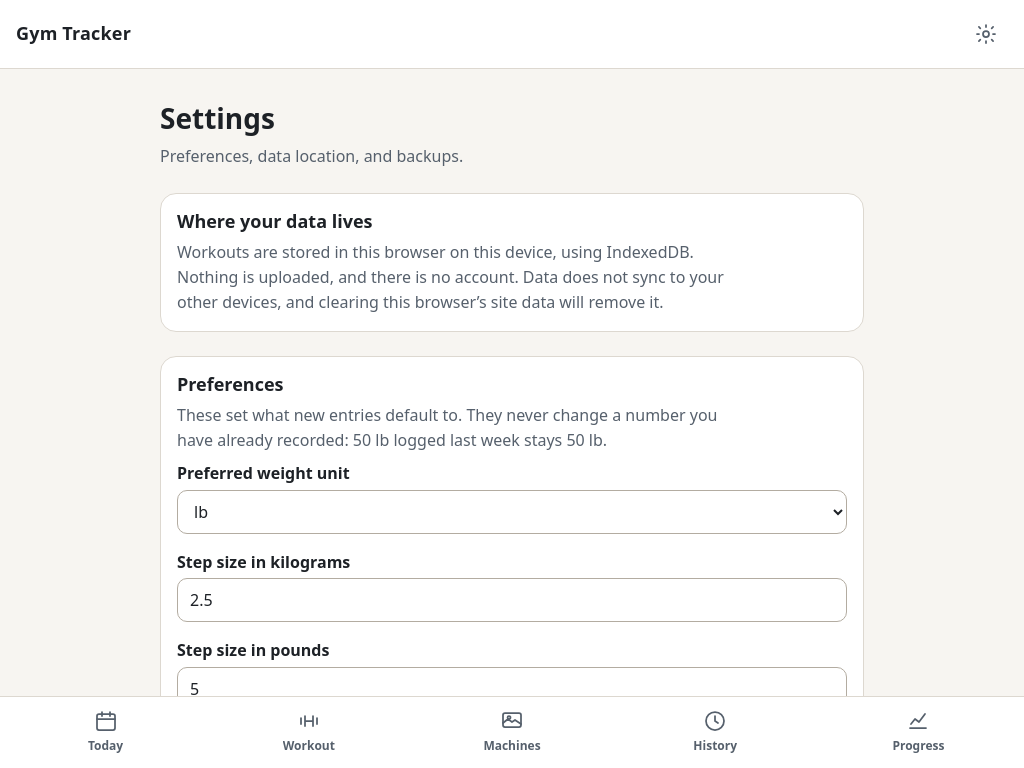
a preference never rewrites a recorded number › leaves an existing 50 lb entry as 50 lb after switching to kilograms
This screenshot has width=1024, height=768.
Select "kg" in the dropdown labelled "Preferred weight unit" at (512, 512), box [177,490,847,534]
(page scrolled)
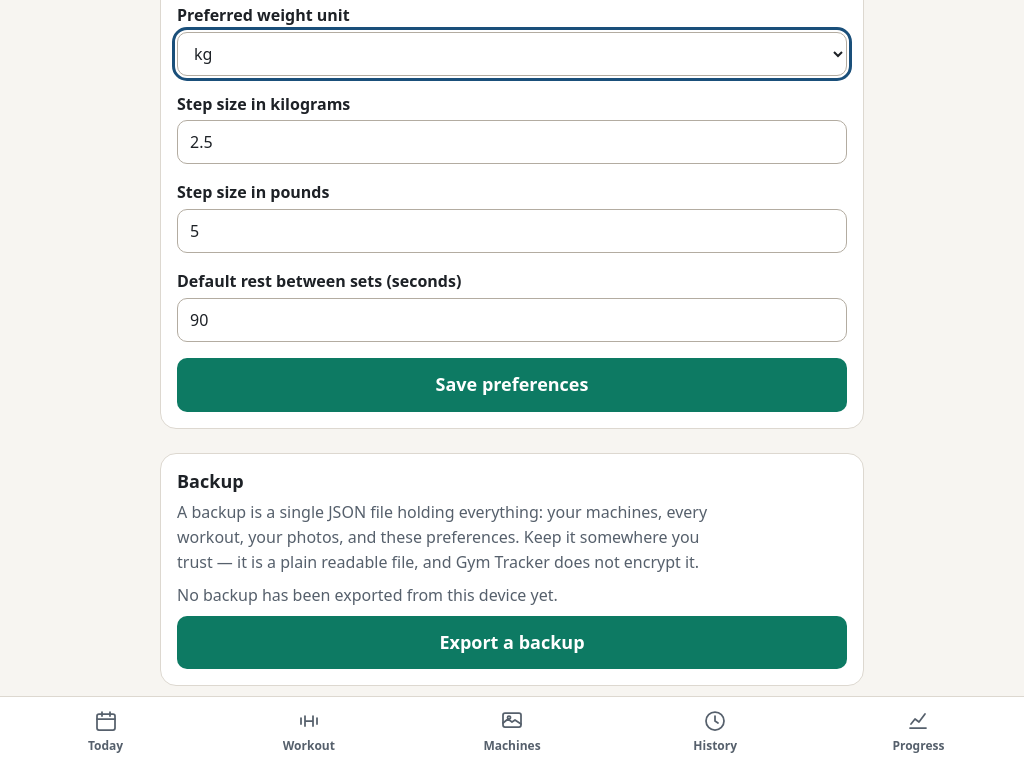
Click the button "Save preferences".
click(512, 385)  # box [177,358,847,412]
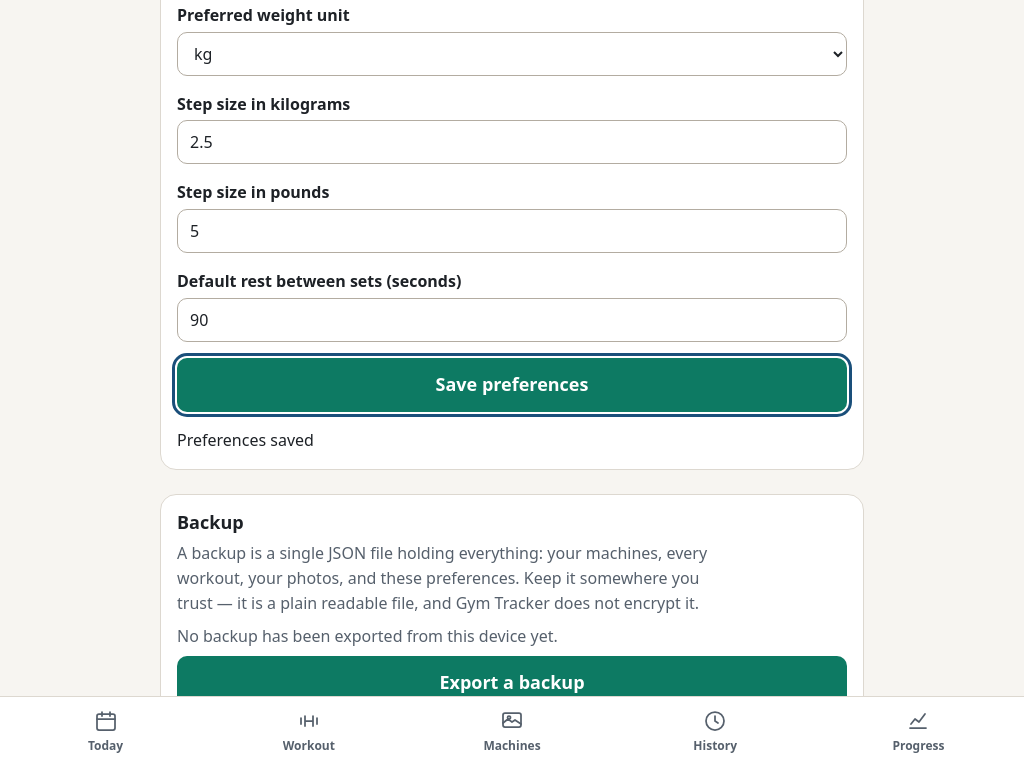
Check: the text "Preferences saved" is shown, box [177,429,314,451]
